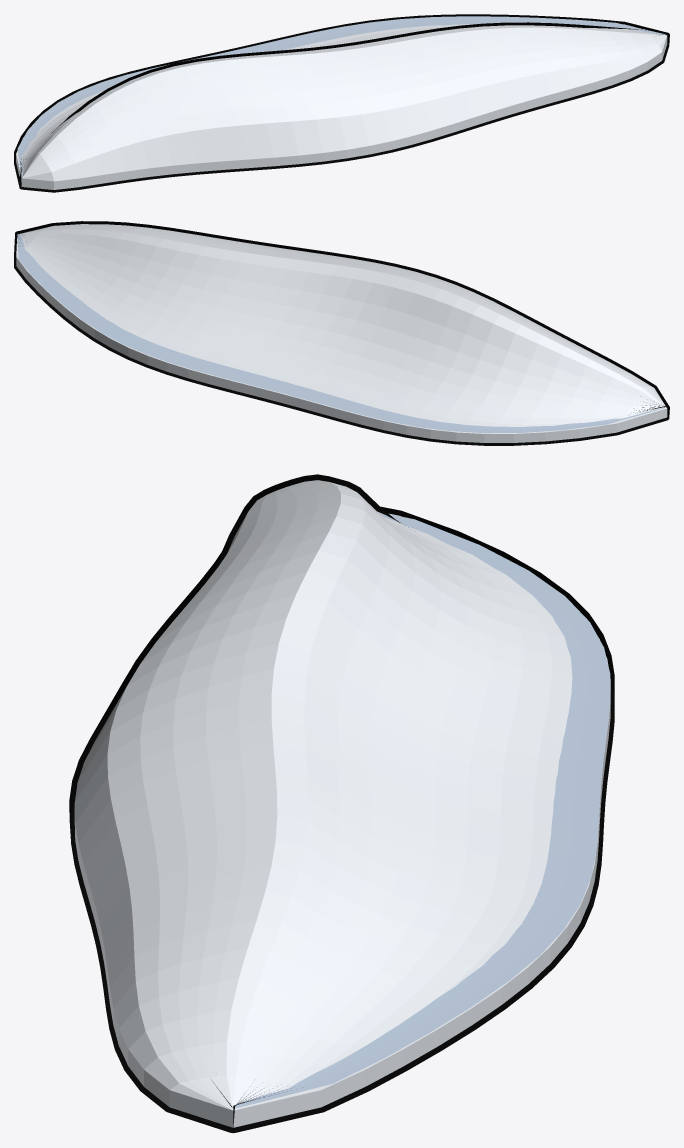
File: Tundra_SastrugiLong.glb
The picture shows the model from 3 angles, top to bottom: view 1: azimuth 30°, elevation 25°; view 2: azimuth 150°, elevation 25°; view 3: azimuth 270°, elevation 25°; orthographic projection. The views are drawn at different scales.
Parts seen in each view (by area): view 1: Tundra_SastrugiLong_Body, Tundra_SastrugiLong_OutlineHull, Tundra_SastrugiLong_Lee; view 2: Tundra_SastrugiLong_Body, Tundra_SastrugiLong_Lee, Tundra_SastrugiLong_OutlineHull; view 3: Tundra_SastrugiLong_Body, Tundra_SastrugiLong_Lee, Tundra_SastrugiLong_OutlineHull.
Part boxes in pixels (left/top/right/bottom): Tundra_SastrugiLong_Body: left=16, top=24, right=667, bottom=189; Tundra_SastrugiLong_OutlineHull: left=14, top=14, right=669, bottom=192; Tundra_SastrugiLong_Lee: left=17, top=16, right=665, bottom=177; Tundra_SastrugiLong_Body: left=16, top=224, right=667, bottom=442; Tundra_SastrugiLong_Lee: left=17, top=234, right=666, bottom=433; Tundra_SastrugiLong_OutlineHull: left=14, top=221, right=669, bottom=445; Tundra_SastrugiLong_Body: left=74, top=480, right=610, bottom=1127; Tundra_SastrugiLong_Lee: left=235, top=511, right=610, bottom=1108; Tundra_SastrugiLong_OutlineHull: left=69, top=474, right=614, bottom=1133.
Bounding box in the file's own units: 11.56 × 1.36 × 4.31.
